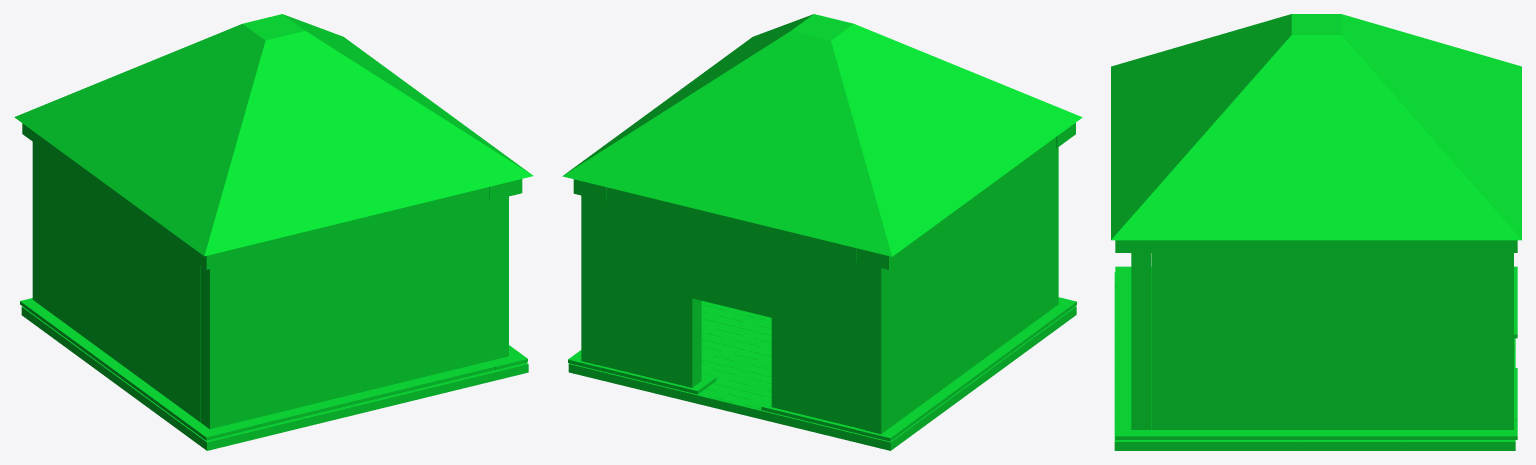
The model's file is fabricacasas2 1.fbx.
3 renders of one model, left to right at view 1: azimuth 30°, elevation 25°; view 2: azimuth 150°, elevation 25°; view 3: azimuth 270°, elevation 25°, orthographic. The views are drawn at different scales.
Visible parts, largest first — view 1: Cube.056; view 2: Cube.056; view 3: Cube.056.
Part boxes in pixels (bbox=[...]): Cube.056: bbox=[14, 14, 533, 450]; Cube.056: bbox=[562, 14, 1082, 450]; Cube.056: bbox=[1111, 14, 1521, 450].
Size of the model in its own units: 2.04 by 2.04 by 1.87.
